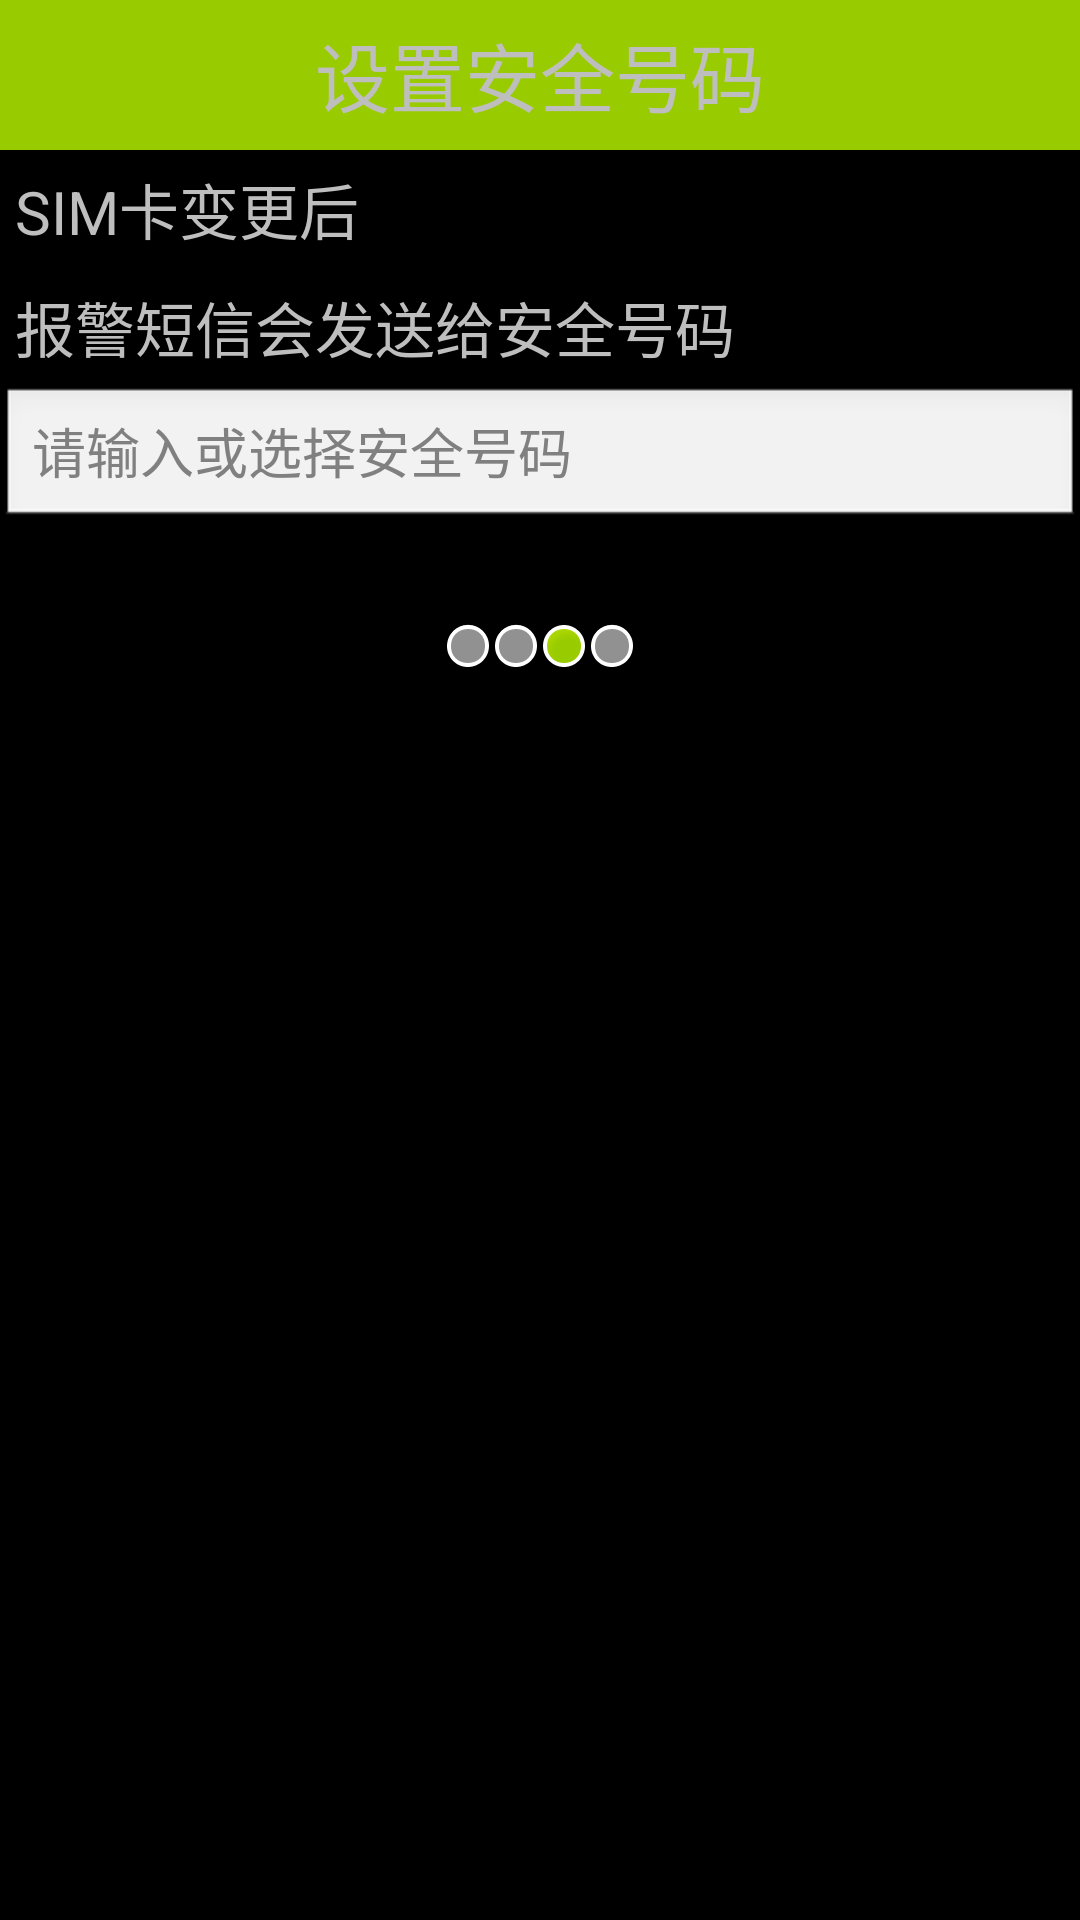

Where icons sit on this 1080x1920 app screen, as (left=x1, top=y1, right=x2, bottom=y2):
presence invisible: (left=447, top=624, right=489, bottom=667), (left=495, top=624, right=537, bottom=667), (left=591, top=624, right=633, bottom=667)
presence online: (left=543, top=625, right=585, bottom=667)
